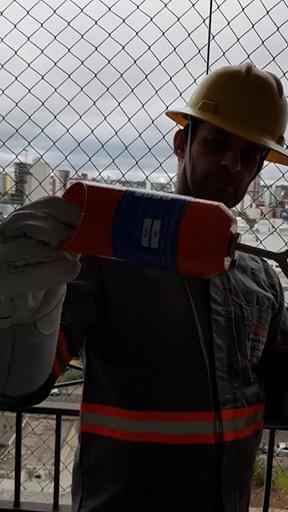Detector_Tensao_Contato: (55, 180, 288, 284)
